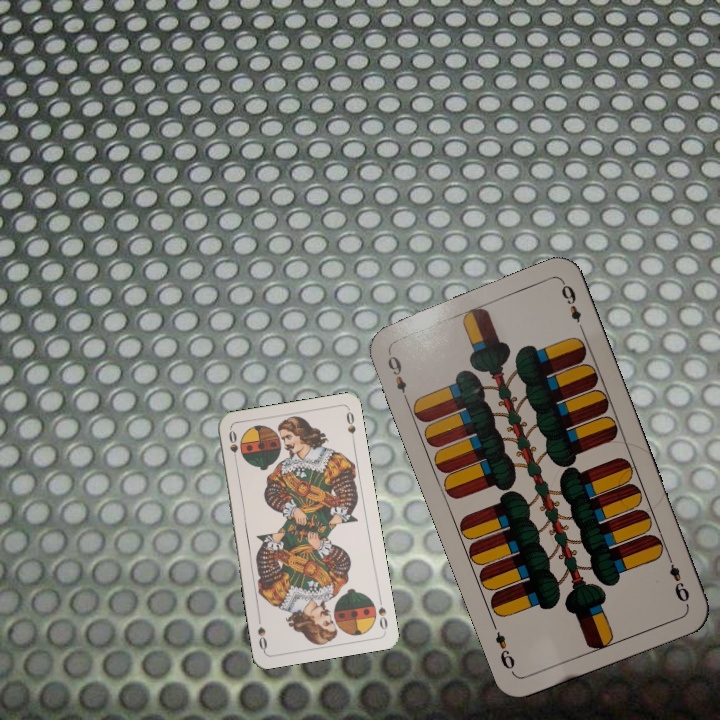E9: (663, 550, 693, 605), (383, 347, 411, 405)
SO: (225, 426, 241, 467), (374, 593, 390, 632)
